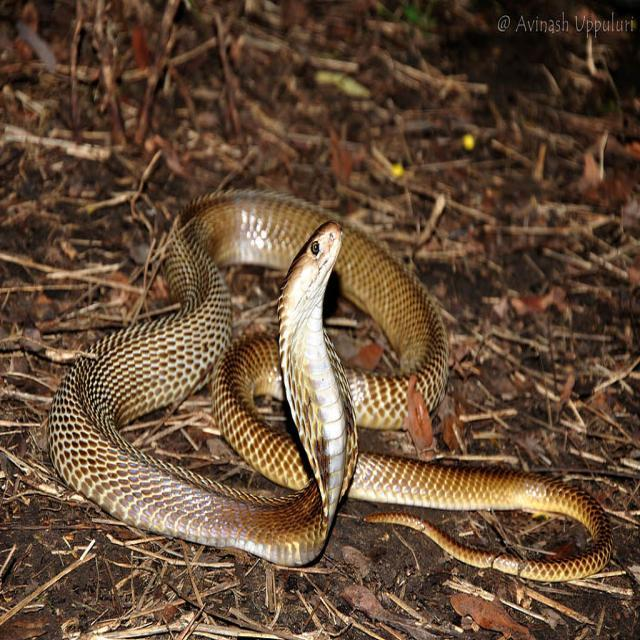Snake: (46, 186, 614, 584)
